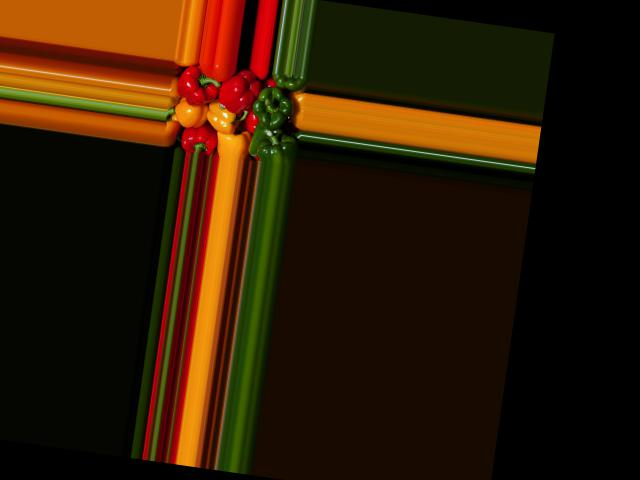bell_pepper: (269, 71, 308, 97)
